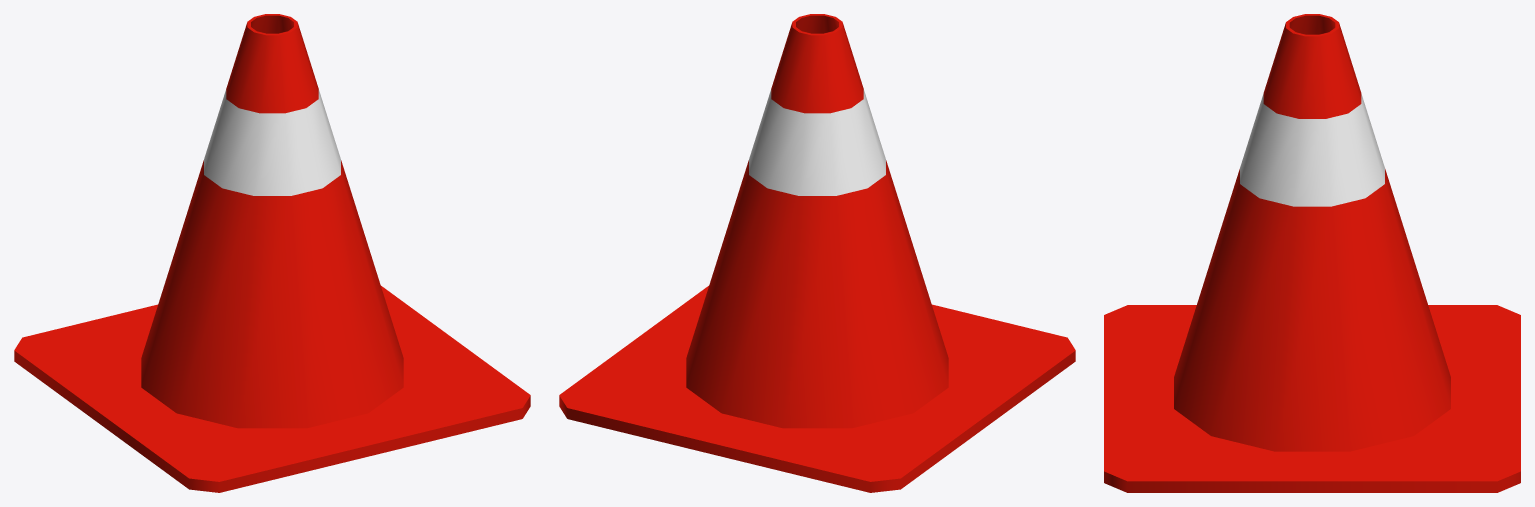
Rendered from Prop_TrafficCone.fbx.
The picture shows the model from 3 angles, left to right: view 1: azimuth 30°, elevation 25°; view 2: azimuth 150°, elevation 25°; view 3: azimuth 270°, elevation 25°; orthographic projection. The views are drawn at different scales.
Parts seen in each view (by area): view 1: Prop_TrafficCone; view 2: Prop_TrafficCone; view 3: Prop_TrafficCone.
Part boxes in pixels (x1,y1,x2,y2): Prop_TrafficCone: (14,14,530,492); Prop_TrafficCone: (559,14,1075,492); Prop_TrafficCone: (1104,14,1520,492).
Size of the model in its own units: 17.78 by 17.86 by 17.78.
